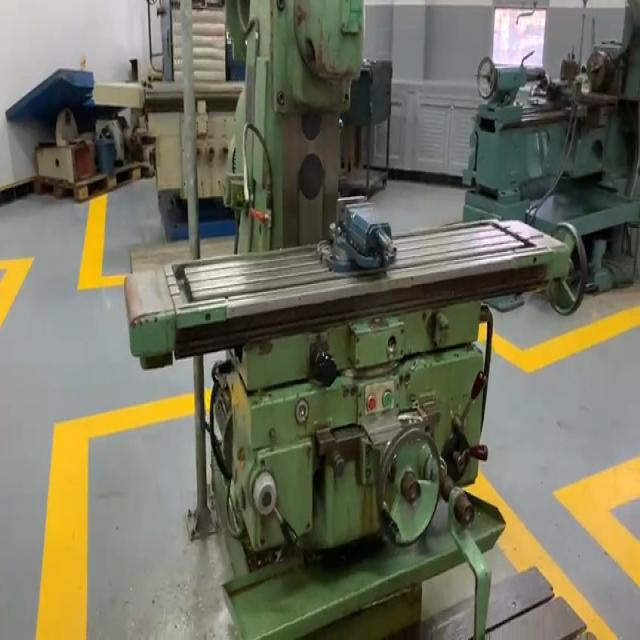fraiseuse: (125, 0, 586, 637)
